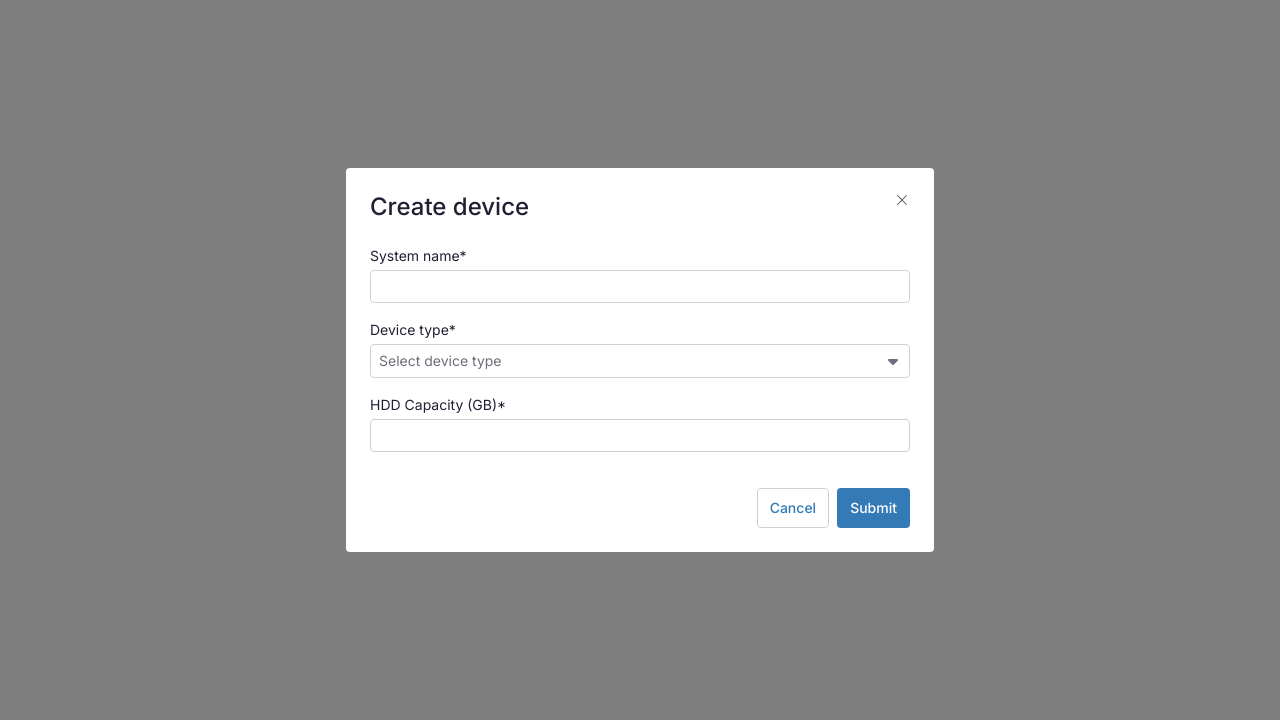
DeviceModal › shows form errors when submission fails due to validation errors
The image size is (1280, 720).
Click the button "Submit" at point(874, 508), box [837,488,910,528]
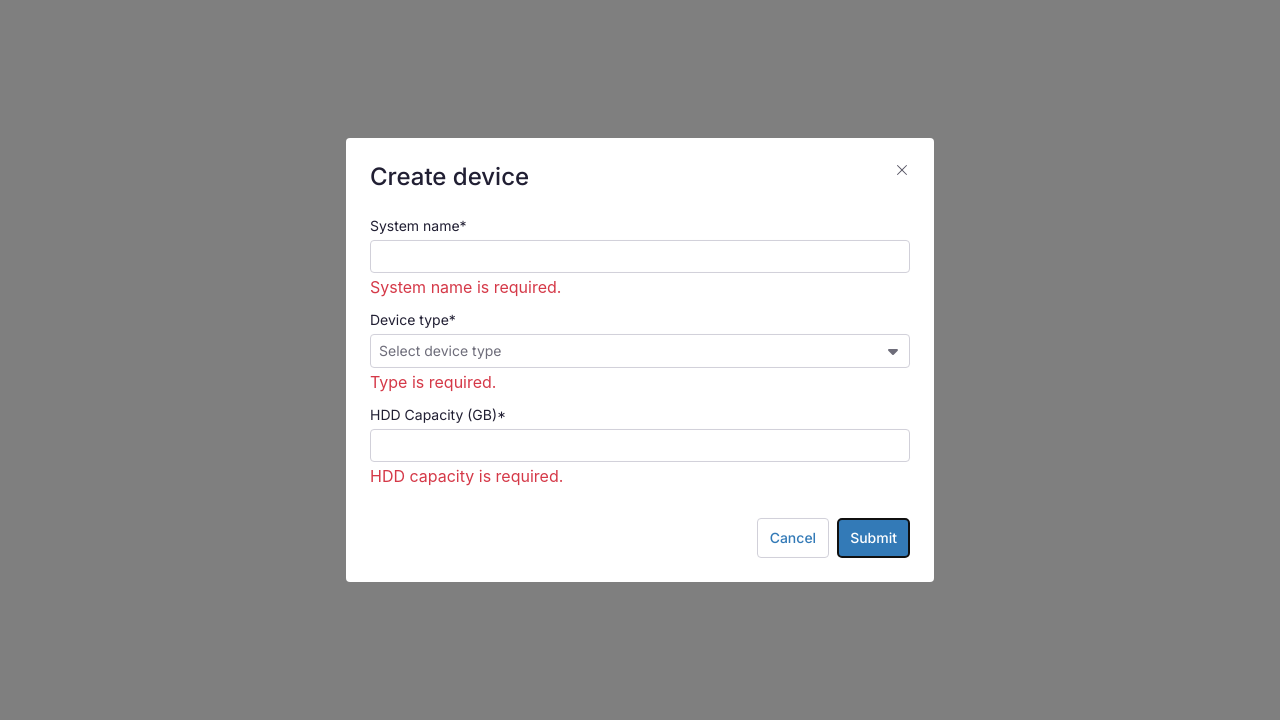
Now the text "System name is required." is shown, box [370,277,561,297]
